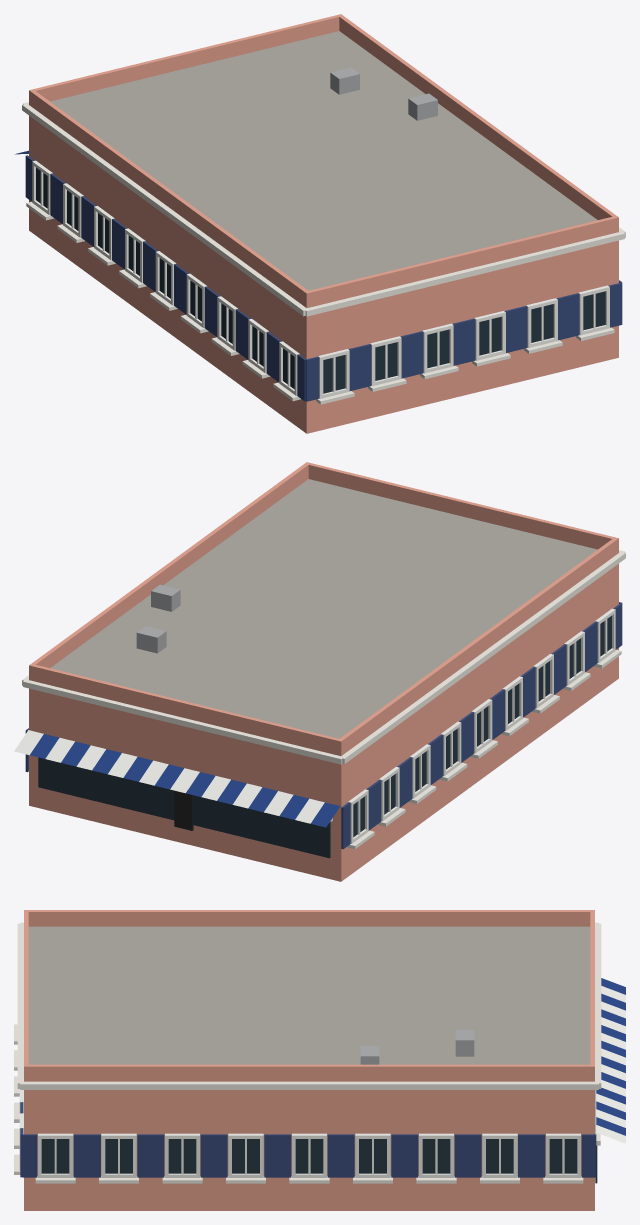
3 views of the same model, one above another, from view 1: azimuth 30°, elevation 25°; view 2: azimuth 150°, elevation 25°; view 3: azimuth 270°, elevation 25° (orthographic). The views are drawn at different scales.
Visible parts, largest first — view 1: b674; view 2: b674; view 3: b674.
Boxes of the visible parts, x1,y1,x2,y2 form: b674: (15,14,625,433); b674: (14,462,625,881); b674: (14,910,625,1210).
Size of the model in its own units: 6328 by 2610 by 9921.
